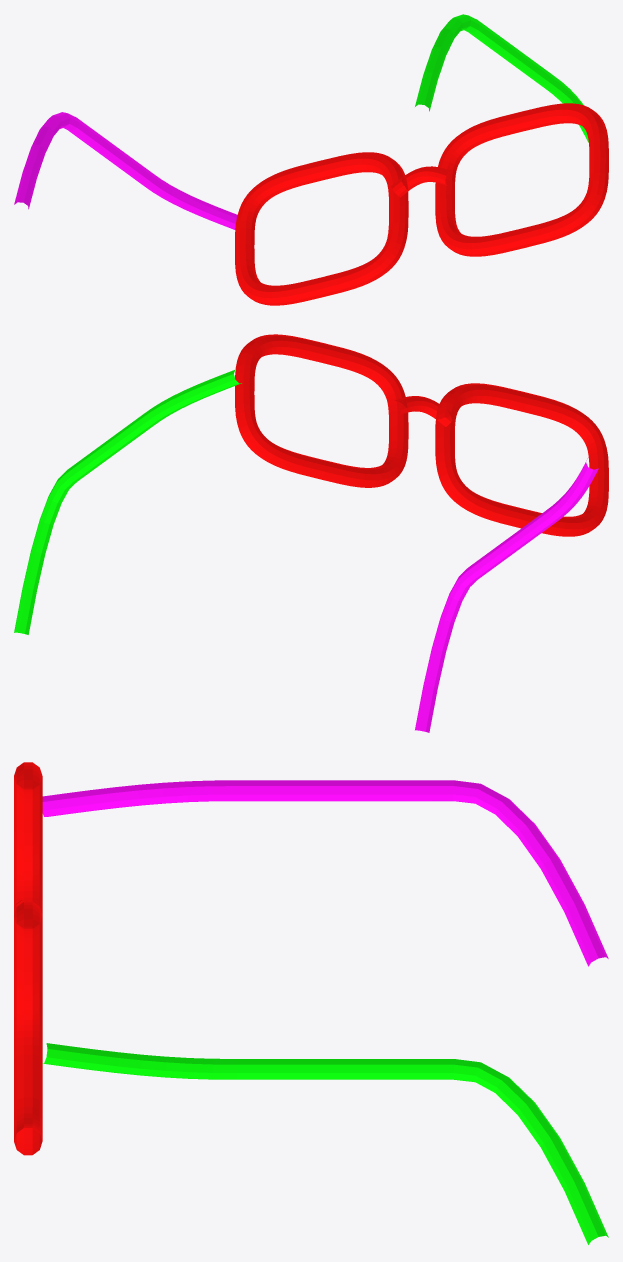
The model's file is glasses.glb.
3 renders of one model, top to bottom at view 1: azimuth 30°, elevation 25°; view 2: azimuth 150°, elevation 25°; view 3: azimuth 270°, elevation 25°, orthographic. The views are drawn at different scales.
Visible parts, largest first — view 1: glasses; view 2: glasses; view 3: glasses.
Boxes of the visible parts, bbox=[...] form: glasses: bbox=[14, 14, 608, 305]; glasses: bbox=[14, 334, 608, 732]; glasses: bbox=[14, 762, 608, 1244].
Bounding box in the file's own units: 2.15 × 0.8458 × 1.88.
